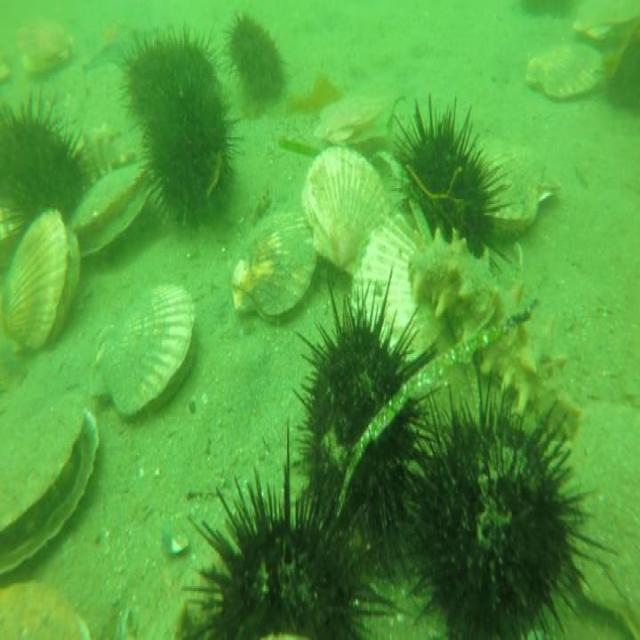echinus: (404, 359, 594, 638), (298, 267, 429, 574), (170, 464, 385, 640), (140, 65, 234, 229), (394, 94, 498, 238), (115, 19, 217, 133), (0, 92, 90, 221), (229, 11, 289, 115)
holothurian: (409, 218, 583, 436), (78, 9, 158, 78)
scallop: (549, 385, 638, 640), (0, 390, 102, 572), (95, 286, 198, 422), (300, 142, 394, 275), (0, 210, 80, 365), (60, 152, 162, 262), (349, 210, 425, 351), (230, 213, 319, 321), (484, 136, 561, 239), (0, 567, 99, 640), (524, 33, 610, 112), (312, 88, 387, 148), (16, 8, 74, 79), (573, 0, 639, 47)
